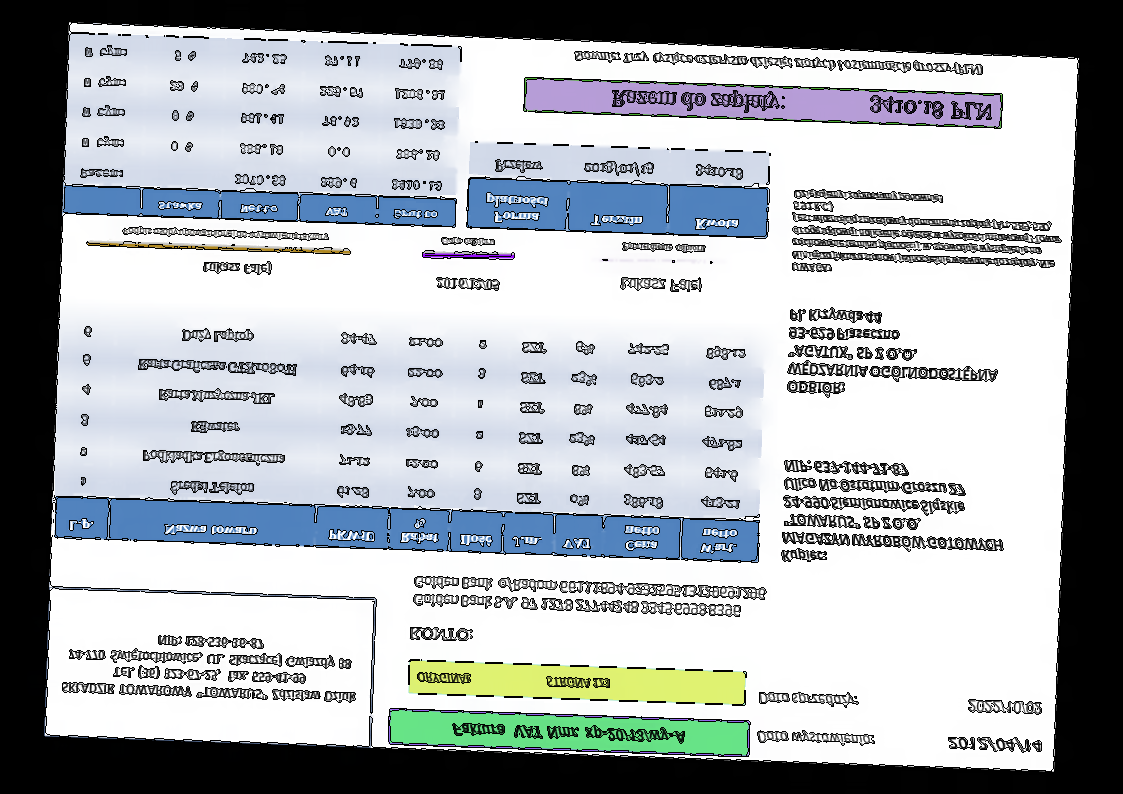Table: (53, 312, 767, 563), (63, 33, 462, 227), (465, 141, 772, 240)
TextBox: (779, 459, 1008, 572), (790, 188, 1064, 282), (60, 629, 361, 706), (786, 306, 1000, 404), (411, 574, 770, 620), (610, 86, 995, 122), (573, 49, 987, 78), (448, 718, 687, 747), (120, 223, 330, 245), (414, 670, 613, 691), (756, 728, 877, 750), (757, 688, 861, 710), (945, 736, 1044, 756), (618, 273, 702, 295), (966, 698, 1045, 716), (201, 258, 273, 277), (433, 274, 500, 294), (621, 241, 706, 255), (408, 626, 474, 644), (439, 234, 496, 250)
